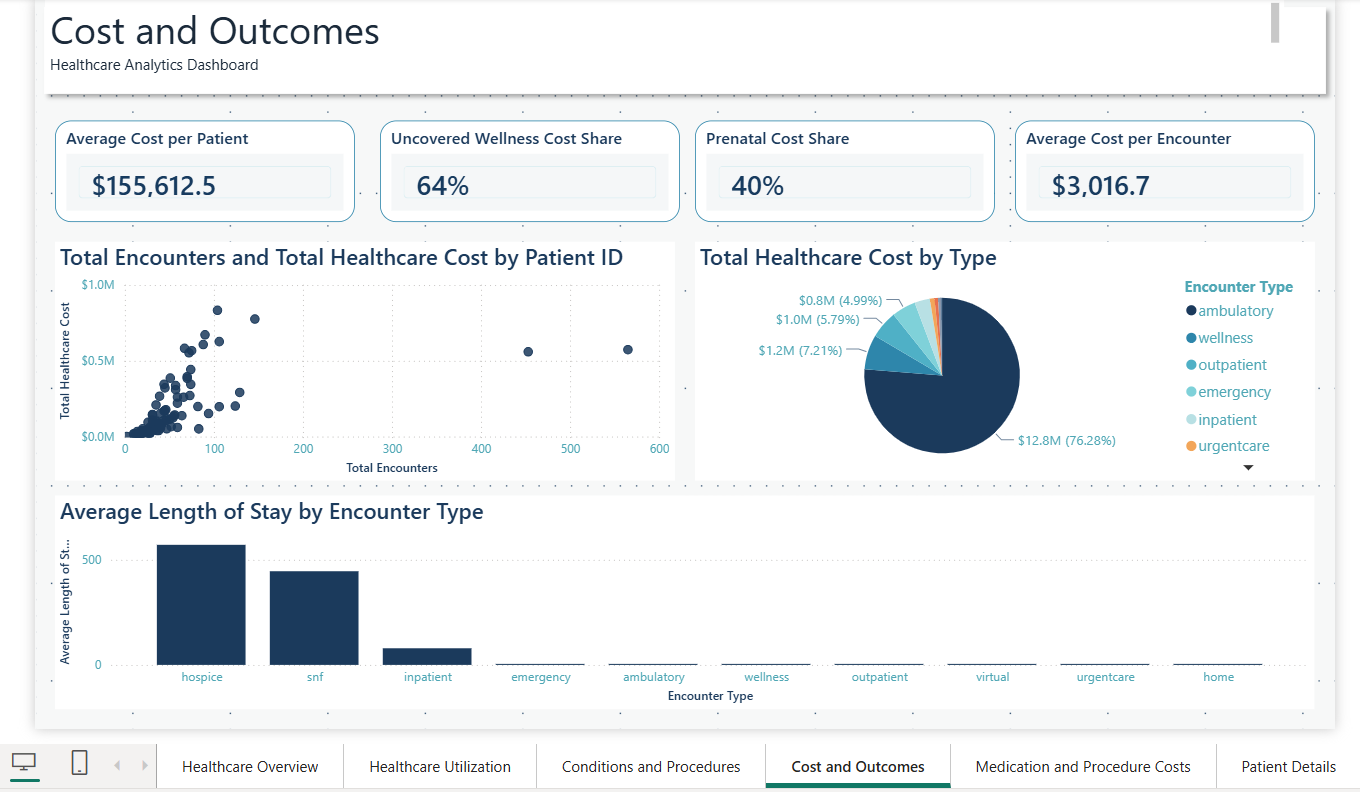

Layout of this report page (visuals, bound fields, positions):
{"tool":"powerbi","page":{"name":"Cost and Outcomes","canvas":[1280,720],"ordinal":3},"visuals":[{"type":"cardVisual","title":"Average Cost per Patient","fields":{"Data":["Measures (2).Average Cost Per Patient"]},"box":[20,120,295,100],"z":0},{"type":"cardVisual","title":"Average Cost per Encounter","fields":{"Data":["Measures (2).Average Cost Per Encounter"]},"box":[965,120,295,100],"z":1000},{"type":"scatterChart","title":"Total Encounters and Total Healthcare Cost by Patient ID ","fields":{"X":["Measures (2).Total Encounters"],"Y":["Measures (2).Total Healthcare Cost"],"Category":["patients_clean.id"]},"box":[20,240,610,235],"z":2000},{"type":"clusteredColumnChart","title":"Average Length of Stay by Encounter Type","fields":{"Category":["encounters_clean.encounterclass"],"Y":["Measures (2).Average Length of Stay"]},"box":[20,490,1240,210],"z":3000},{"type":"cardVisual","title":"Patients with Multiple Encounters","fields":{"Data":["Measures (2).Multiple Encounters"]},"box":[335,120,295,100],"z":4000},{"type":"shape","box":[0,0,1280,103.3],"z":5000},{"type":"cardVisual","title":"Percentage of Patients with Multiple Encounters","fields":{"Data":["Measures (2).Multiple Encounter Patient Percentage"]},"box":[650,120,295,100],"z":6000},{"type":"textbox","box":[10,0,1220,54.1],"z":7000},{"type":"textbox","box":[10,50,391,32],"z":8000},{"type":"pieChart","title":"Total Healthcare Cost by Type","fields":{"Y":["Measures (2).Total Healthcare Cost"],"Category":["encounters_clean.encounterclass"]},"box":[650,240,610,235],"z":9000}]}

Visuals, with their boxes on the page's 1280x720 design canvas (x1, y1, x2, y2). These are canvas units, not pixel positions in the 1360x792 screenshot, which may show the page scaled, cropped or inside an application window:
"Average Cost per Patient" cardVisual: bbox=[20, 120, 315, 220]
"Average Cost per Encounter" cardVisual: bbox=[965, 120, 1260, 220]
"Total Encounters and Total Healthcare Cost by Patient ID " scatterChart: bbox=[20, 240, 630, 475]
"Average Length of Stay by Encounter Type" clusteredColumnChart: bbox=[20, 490, 1260, 700]
"Patients with Multiple Encounters" cardVisual: bbox=[335, 120, 630, 220]
shape: bbox=[0, 0, 1280, 103]
"Percentage of Patients with Multiple Encounters" cardVisual: bbox=[650, 120, 945, 220]
textbox: bbox=[10, 0, 1230, 54]
textbox: bbox=[10, 50, 401, 82]
"Total Healthcare Cost by Type" pieChart: bbox=[650, 240, 1260, 475]
